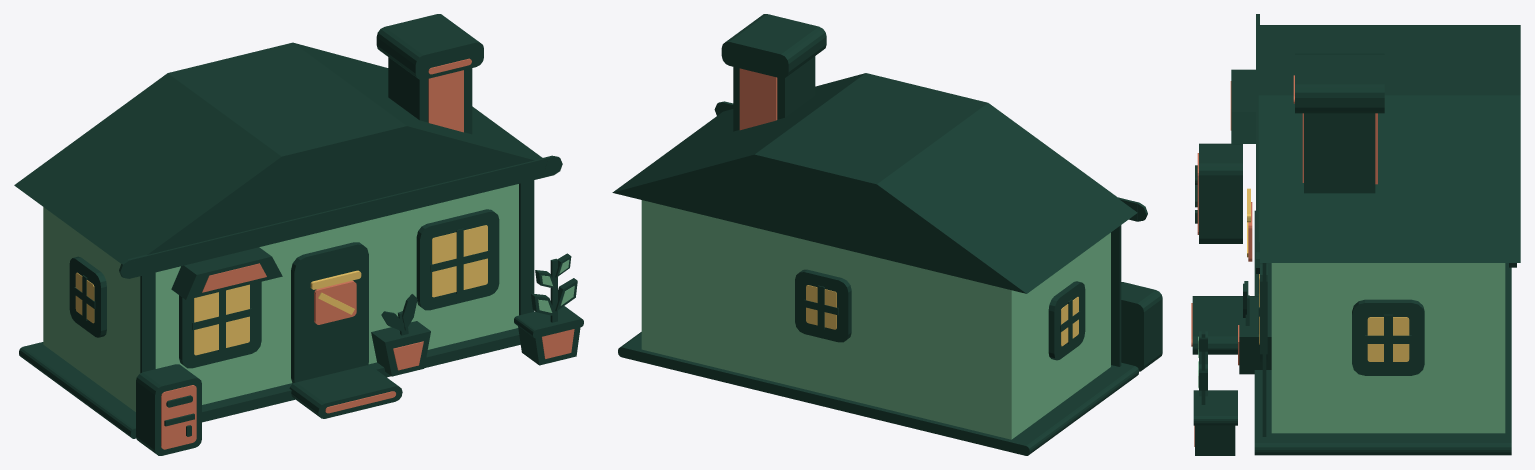
3 views of the same model, side by side, from view 1: azimuth 30°, elevation 25°; view 2: azimuth 150°, elevation 25°; view 3: azimuth 270°, elevation 25° (orthographic). The views are drawn at different scales.
Parts seen in each view (by area): view 1: Rent Free house; view 2: Rent Free house; view 3: Rent Free house.
Part boxes in pixels (left/top/right/bottom): Rent Free house: left=14, top=14, right=583, bottom=455; Rent Free house: left=612, top=14, right=1162, bottom=455; Rent Free house: left=1191, top=14, right=1520, bottom=455.
Bounding box in the file's own units: 1.29 × 0.8257 × 0.7257.
